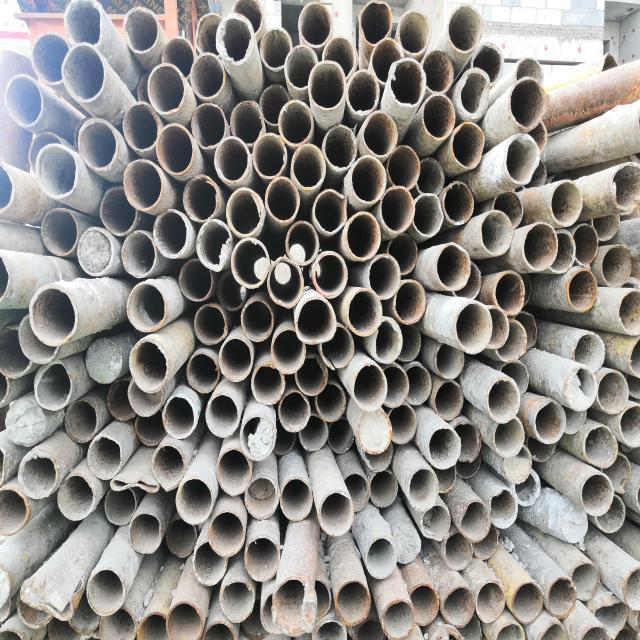pipe: (29, 284, 78, 348), (61, 42, 106, 102), (274, 577, 315, 640), (16, 585, 74, 625), (36, 146, 76, 198), (230, 236, 270, 288), (18, 312, 58, 364), (215, 13, 254, 66), (78, 118, 117, 170), (126, 282, 165, 334), (503, 132, 539, 188), (32, 32, 70, 85), (4, 74, 42, 126), (130, 340, 168, 392), (0, 321, 34, 379), (34, 362, 74, 411), (124, 160, 163, 210), (227, 188, 266, 238), (196, 218, 232, 272), (456, 300, 492, 354), (149, 63, 187, 114), (296, 298, 338, 344), (5, 400, 47, 446), (122, 6, 160, 56), (100, 186, 138, 236), (18, 451, 56, 501), (123, 101, 160, 152), (308, 61, 346, 110), (63, 0, 104, 45), (388, 59, 424, 110), (510, 76, 544, 130), (76, 228, 114, 276), (57, 474, 95, 522), (153, 208, 189, 258), (351, 154, 387, 204), (268, 256, 304, 306), (347, 287, 382, 338), (151, 443, 188, 491), (447, 4, 484, 52), (41, 207, 77, 256), (157, 125, 193, 174), (312, 250, 348, 299), (86, 570, 125, 615), (297, 1, 334, 48), (175, 479, 212, 526), (121, 231, 157, 279), (190, 102, 226, 150), (214, 136, 250, 184), (346, 211, 382, 259), (216, 338, 254, 383), (278, 100, 315, 146), (362, 110, 399, 156), (318, 492, 355, 538), (290, 144, 326, 191), (86, 337, 122, 384), (216, 449, 252, 496), (193, 538, 228, 586), (523, 222, 558, 270), (292, 353, 330, 397), (358, 0, 394, 46), (322, 36, 358, 82), (208, 512, 244, 558), (270, 328, 306, 374), (240, 415, 276, 461), (422, 92, 455, 142), (228, 101, 263, 148), (393, 278, 427, 326), (354, 363, 388, 411), (240, 298, 276, 343), (336, 580, 371, 626), (438, 242, 470, 292), (398, 10, 432, 57), (184, 176, 218, 223), (267, 178, 301, 225), (314, 189, 348, 236), (320, 323, 354, 370), (610, 161, 640, 214), (388, 144, 421, 192), (179, 258, 215, 302), (66, 590, 102, 634), (372, 39, 406, 85), (252, 132, 286, 178), (244, 537, 278, 583), (484, 378, 518, 424), (64, 400, 100, 443), (128, 376, 164, 419), (190, 54, 225, 98), (192, 302, 227, 346), (88, 436, 123, 480), (452, 122, 484, 170), (550, 179, 581, 228), (162, 36, 195, 82), (195, 13, 228, 59), (285, 44, 318, 90), (205, 395, 240, 438), (382, 186, 414, 233), (108, 376, 140, 423), (162, 395, 196, 439), (358, 410, 392, 454), (597, 368, 629, 414), (28, 131, 62, 174), (563, 367, 597, 410), (545, 228, 576, 275), (285, 222, 318, 266), (167, 601, 204, 640), (326, 124, 356, 172), (0, 488, 30, 536), (534, 399, 566, 444), (482, 210, 512, 258), (260, 28, 294, 70), (252, 363, 286, 405), (280, 478, 314, 520), (382, 598, 416, 640), (457, 500, 491, 542), (584, 426, 618, 468), (459, 70, 488, 119), (367, 254, 400, 297), (348, 70, 378, 117), (413, 192, 443, 239), (494, 269, 524, 316), (258, 84, 290, 128), (278, 390, 310, 434), (246, 476, 278, 520), (408, 582, 440, 626), (365, 536, 397, 580), (408, 467, 439, 512), (187, 352, 220, 394), (314, 379, 347, 421), (423, 50, 453, 96), (602, 243, 632, 289), (428, 428, 460, 471), (262, 592, 293, 636), (512, 582, 543, 626), (583, 474, 614, 518), (134, 405, 168, 445), (129, 516, 163, 556), (594, 600, 628, 640), (221, 581, 254, 622), (164, 517, 197, 558), (574, 332, 607, 373), (567, 268, 597, 313), (442, 182, 474, 224), (492, 188, 524, 230), (216, 272, 249, 312), (476, 580, 506, 624), (497, 319, 527, 363), (442, 586, 474, 627), (451, 422, 482, 464), (374, 318, 402, 364), (595, 494, 627, 534), (434, 340, 466, 380), (443, 530, 473, 572), (488, 488, 518, 530), (98, 606, 135, 640), (232, 0, 264, 39), (302, 579, 331, 622), (381, 364, 408, 410), (103, 487, 134, 527), (433, 380, 464, 420), (546, 577, 576, 618), (473, 43, 503, 84), (572, 222, 598, 269), (298, 412, 329, 451), (386, 404, 416, 444), (494, 418, 524, 458), (266, 416, 297, 454), (501, 446, 532, 484), (390, 234, 418, 276), (242, 596, 270, 638), (571, 562, 599, 604), (343, 472, 371, 514), (602, 452, 630, 494), (414, 157, 444, 196), (362, 438, 394, 474), (369, 470, 399, 508), (471, 520, 499, 560), (422, 504, 451, 542), (501, 359, 530, 397), (406, 364, 432, 406), (562, 502, 588, 544), (454, 260, 481, 300), (618, 288, 640, 336), (109, 476, 160, 496), (514, 56, 544, 90), (514, 467, 540, 506), (394, 529, 422, 565), (558, 398, 586, 434), (487, 304, 508, 350), (432, 456, 457, 493), (620, 403, 640, 449), (328, 417, 354, 452), (397, 323, 420, 362), (138, 612, 170, 640), (514, 311, 538, 348), (524, 118, 548, 154), (524, 155, 548, 191), (530, 432, 557, 462), (623, 564, 640, 611), (456, 450, 482, 480), (0, 161, 14, 216), (137, 72, 161, 104), (532, 620, 568, 640), (206, 620, 237, 640), (356, 618, 384, 640), (313, 622, 346, 640), (494, 624, 524, 640)
